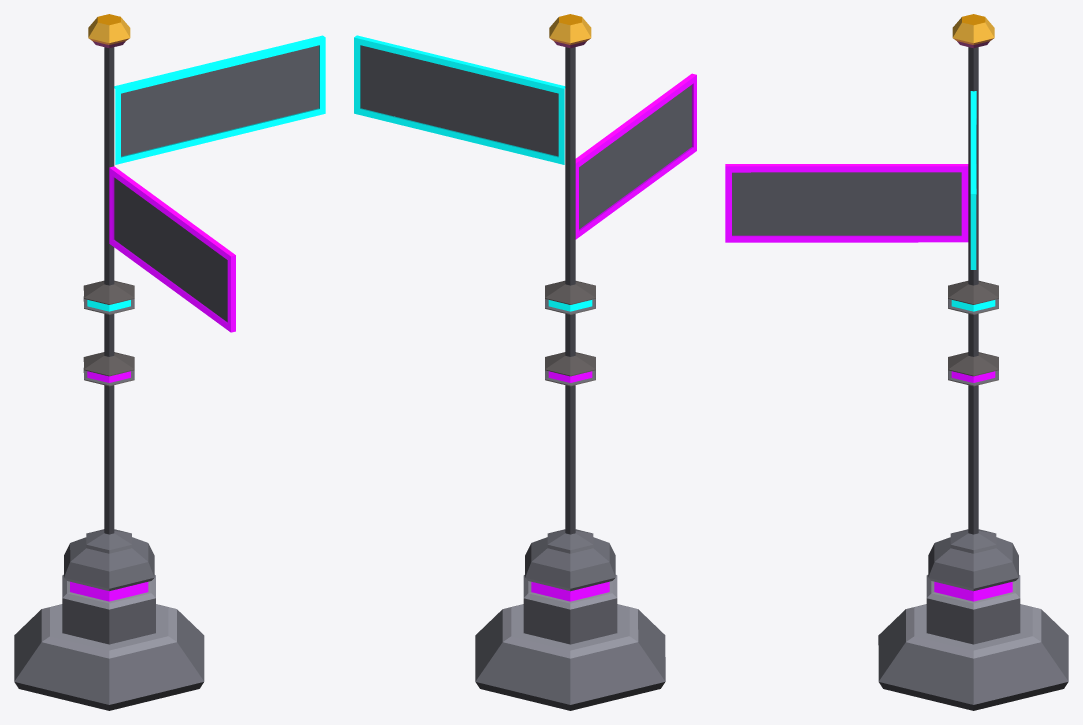
File: SignPost_Neon_Double.glb
3 renders of one model, left to right at view 1: azimuth 30°, elevation 25°; view 2: azimuth 150°, elevation 25°; view 3: azimuth 270°, elevation 25°, orthographic.
Visible parts, largest first — view 1: SciFi_SignPost; view 2: SciFi_SignPost; view 3: SciFi_SignPost.
Boxes of the visible parts, bbox=[...] form: SciFi_SignPost: bbox=[14, 14, 325, 710]; SciFi_SignPost: bbox=[354, 14, 696, 710]; SciFi_SignPost: bbox=[725, 14, 1068, 710].
Size of what is drawn, in the model's own units: 1.41 by 2.81 by 1.35.
Materials: 1 (1 with a texture image).
